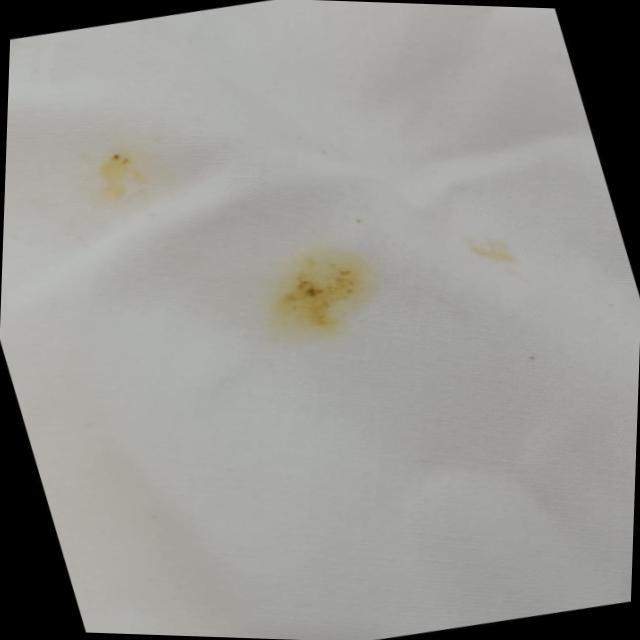stain: (223, 220, 417, 354), (82, 135, 165, 212), (448, 216, 540, 284)
